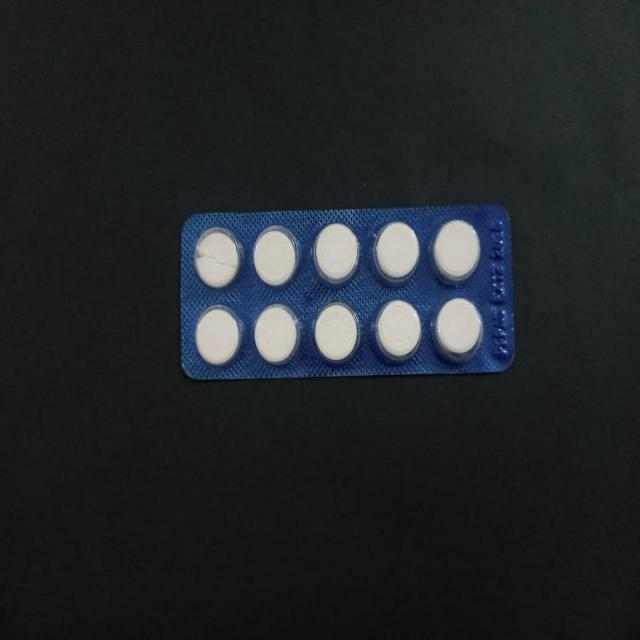defect: (192, 223, 246, 293)
